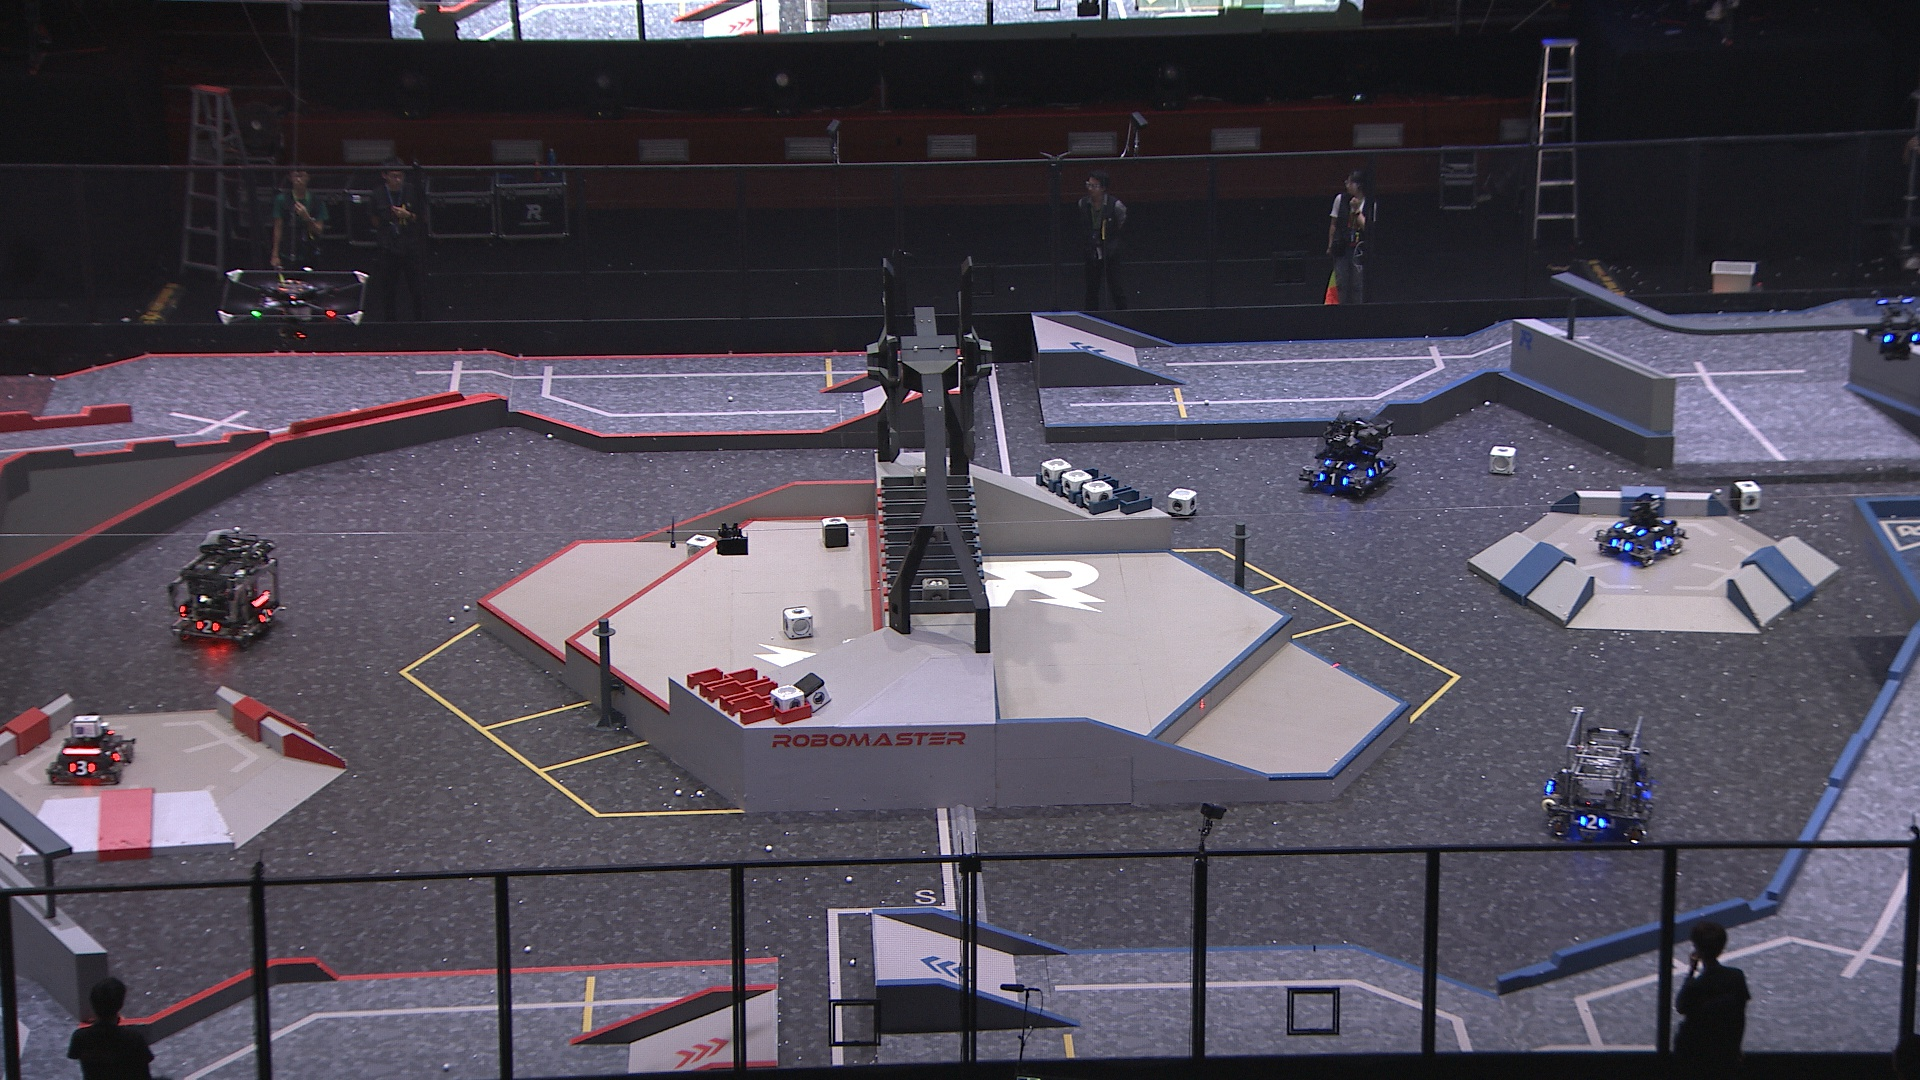armor: (1880, 328, 1920, 348), (67, 756, 98, 779), (1319, 469, 1352, 489), (1615, 517, 1646, 538), (1576, 812, 1607, 832), (1321, 454, 1353, 471), (1364, 458, 1389, 479), (257, 603, 278, 626), (109, 742, 131, 766), (195, 617, 222, 636), (1610, 535, 1633, 556), (1651, 531, 1671, 553)
car: (1536, 700, 1664, 849), (167, 527, 285, 651), (1294, 410, 1394, 498), (40, 711, 138, 789), (1594, 489, 1688, 568)
watcher: (1870, 294, 1920, 363)
